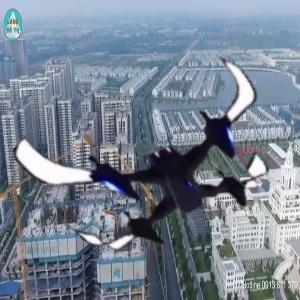drone: (46, 38, 290, 282)
